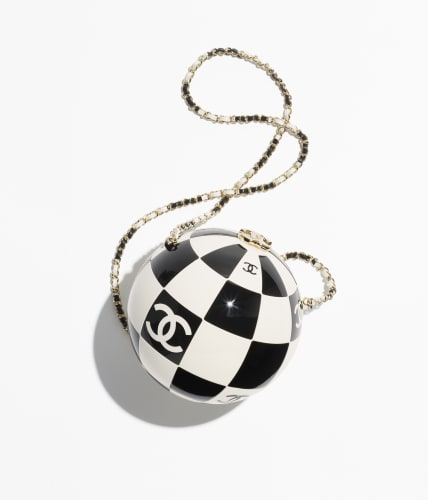channel: (125, 200, 296, 404), (132, 295, 194, 358), (164, 179, 205, 265), (245, 251, 267, 284)
